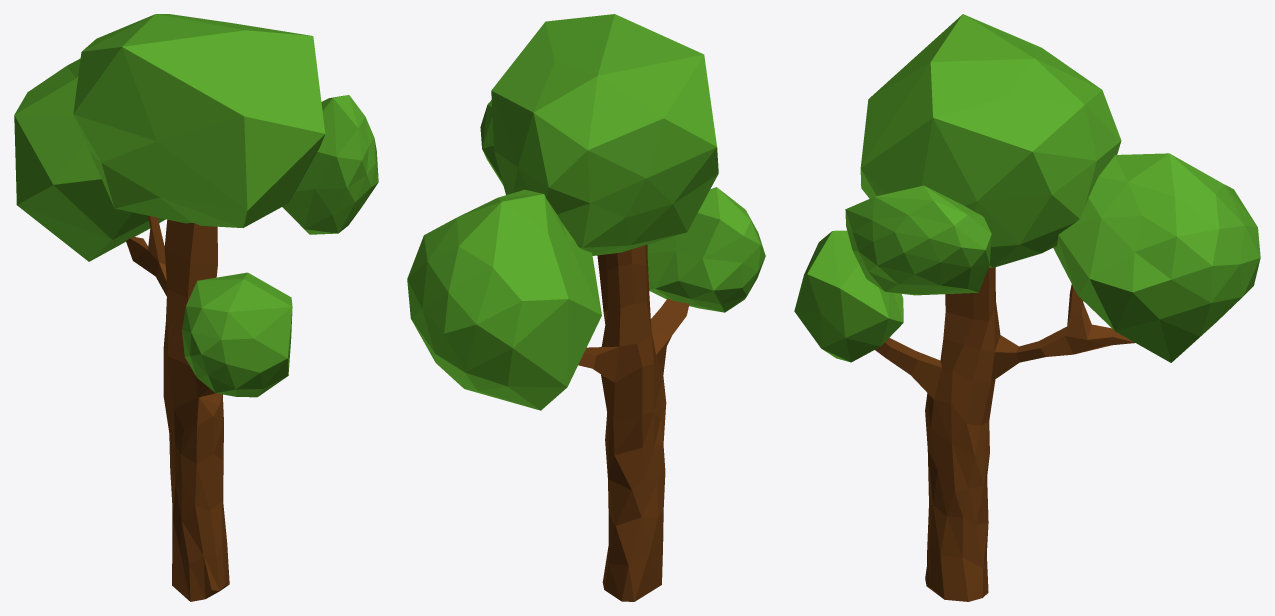
File: tree.fbx
The picture shows the model from 3 angles, left to right: view 1: azimuth 30°, elevation 25°; view 2: azimuth 150°, elevation 25°; view 3: azimuth 270°, elevation 25°; orthographic projection. The views are drawn at different scales.
Parts seen in each view (by area): view 1: Icosphere, Cylinder, Icosphere.003, Icosphere.001, Icosphere.002; view 2: Icosphere, Icosphere.003, Cylinder, Icosphere.001, Icosphere.002; view 3: Icosphere, Icosphere.003, Cylinder, Icosphere.002, Icosphere.001.
Boxes of the visible parts, box(x1,y1,x2,y2) form: Icosphere: box(73, 14, 325, 227); Cylinder: box(126, 215, 229, 601); Icosphere.003: box(14, 58, 165, 261); Icosphere.001: box(182, 272, 292, 397); Icosphere.002: box(282, 95, 378, 234); Icosphere: box(491, 14, 718, 255); Icosphere.003: box(407, 189, 601, 410); Cylinder: box(578, 244, 689, 601); Icosphere.001: box(647, 187, 765, 312); Icosphere.002: box(480, 100, 503, 185); Icosphere: box(860, 14, 1121, 267); Icosphere.003: box(1053, 153, 1260, 362); Cylinder: box(875, 267, 1134, 601); Icosphere.002: box(845, 185, 991, 295); Icosphere.001: box(794, 230, 903, 362).
Size of the model in its own units: 1398 by 2916 by 2249.
